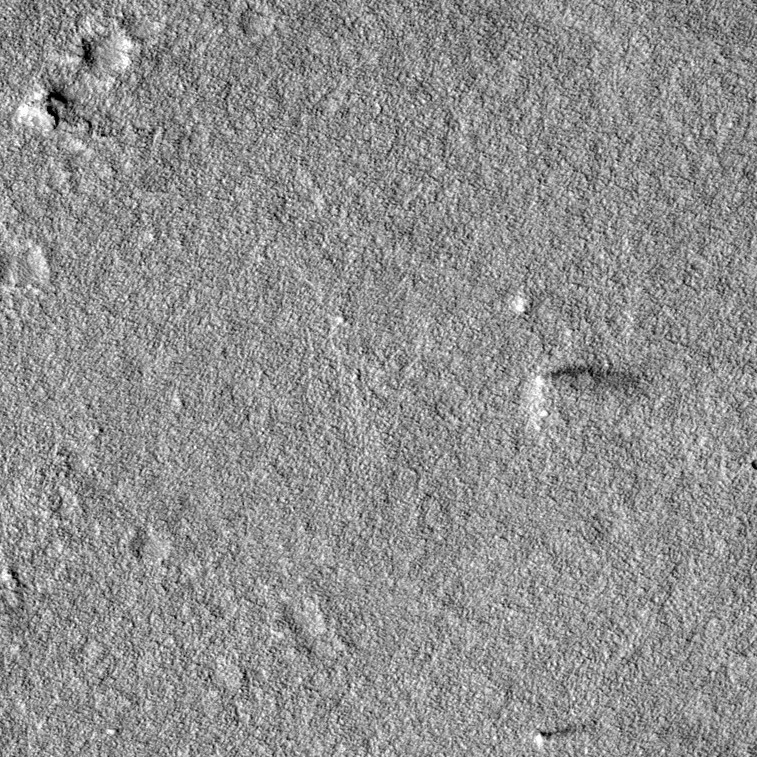dust_devil: (520, 360, 650, 434), (530, 718, 599, 752)
